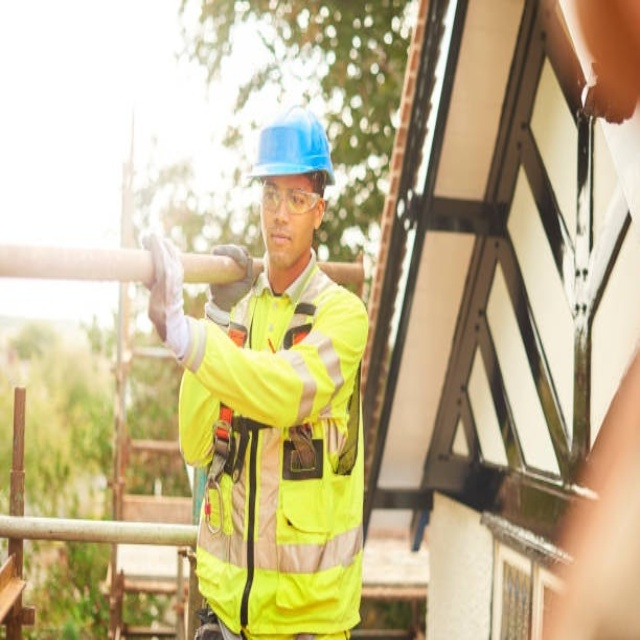Gafas: (258, 179, 321, 213)
Guantes: (141, 234, 195, 365), (205, 244, 258, 321)
Sin_mascara: (267, 227, 299, 264)
